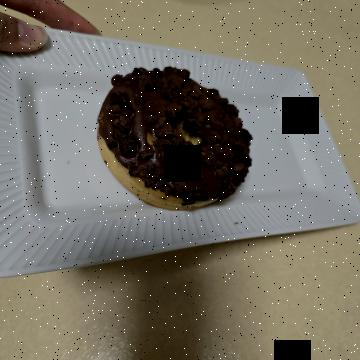doughnut: (60, 104, 223, 273)
